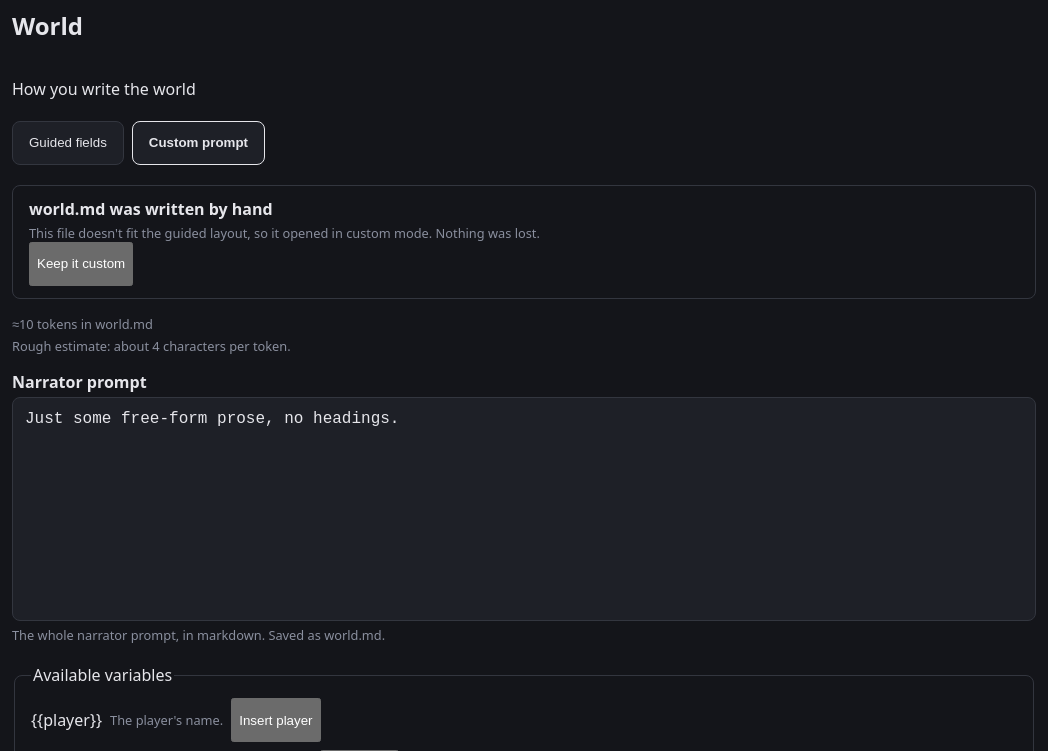
WorldTab › clicking "keep as custom" in the fallback banner records world_mode custom
This screenshot has width=1048, height=751.
Click the button "Keep it custom".
click(81, 264)  # box [29,242,133,286]
(page scrolled)
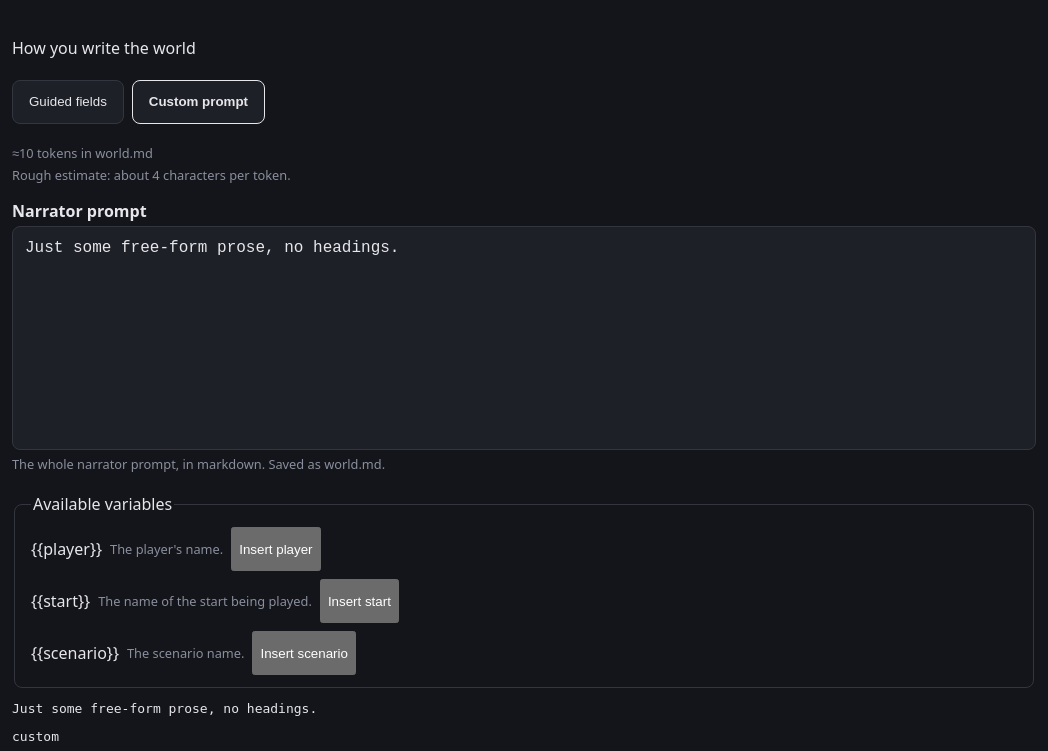
Check: the text with test id "world-mode-debug" reads "custom", box [12,729,59,744]
